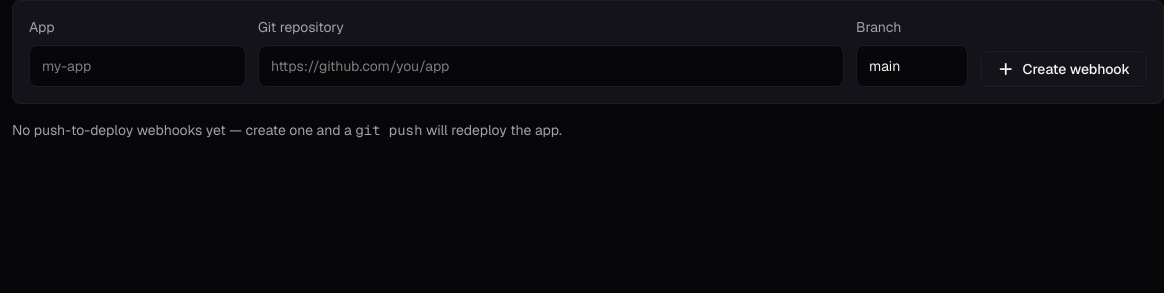
Test case: DeployHooksManager › shows the one-time URL + secret after creating
The image size is (1164, 293).
In the field named "Webhook app": point(138, 66) [29, 45, 246, 87], type "shop"
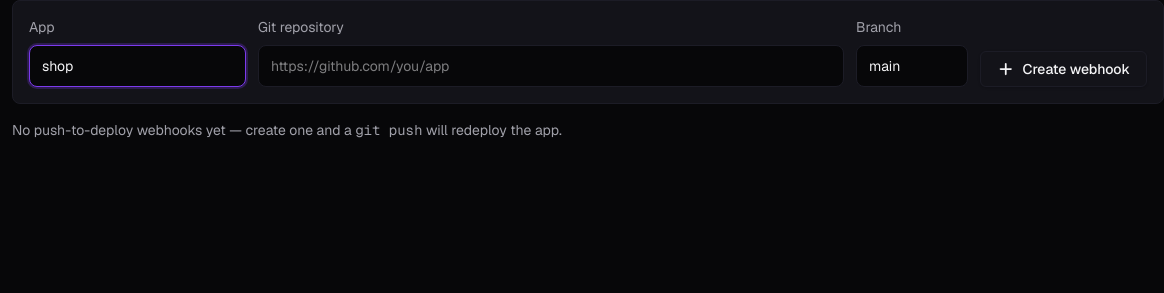
In the field named "Webhook git repository": point(551, 66) [258, 45, 844, 87], type "https://github.com/x/shop"
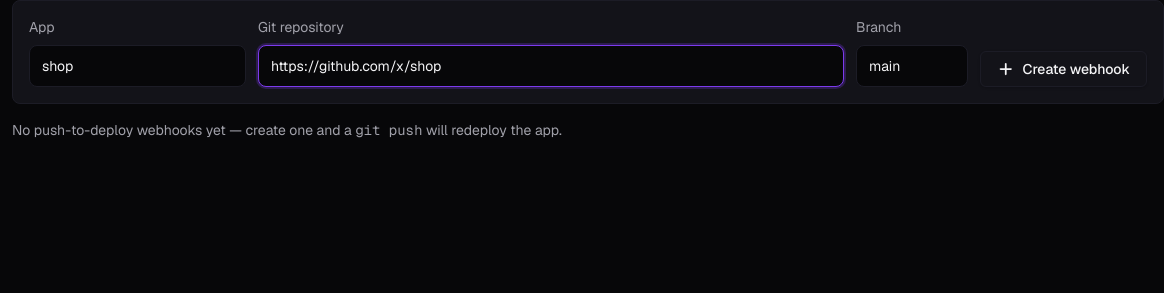
Click the button "Create webhook": point(1064, 69) [980, 51, 1147, 87]
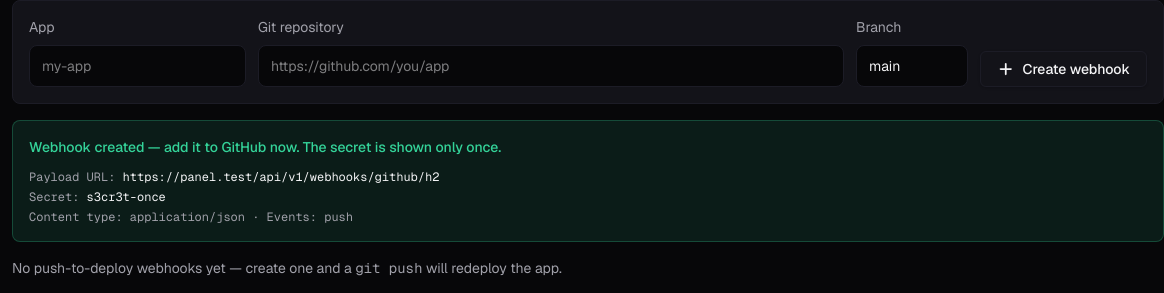
Expected: the text "shown only once" is shown, [29, 138, 501, 156]
Expected: the text "Secret: s3cr3t-once" is shown, [29, 189, 166, 205]
Expected: the text "Payload URL: https://panel.test/api/v1/webhooks/github/h2" is shown, [29, 169, 439, 185]
